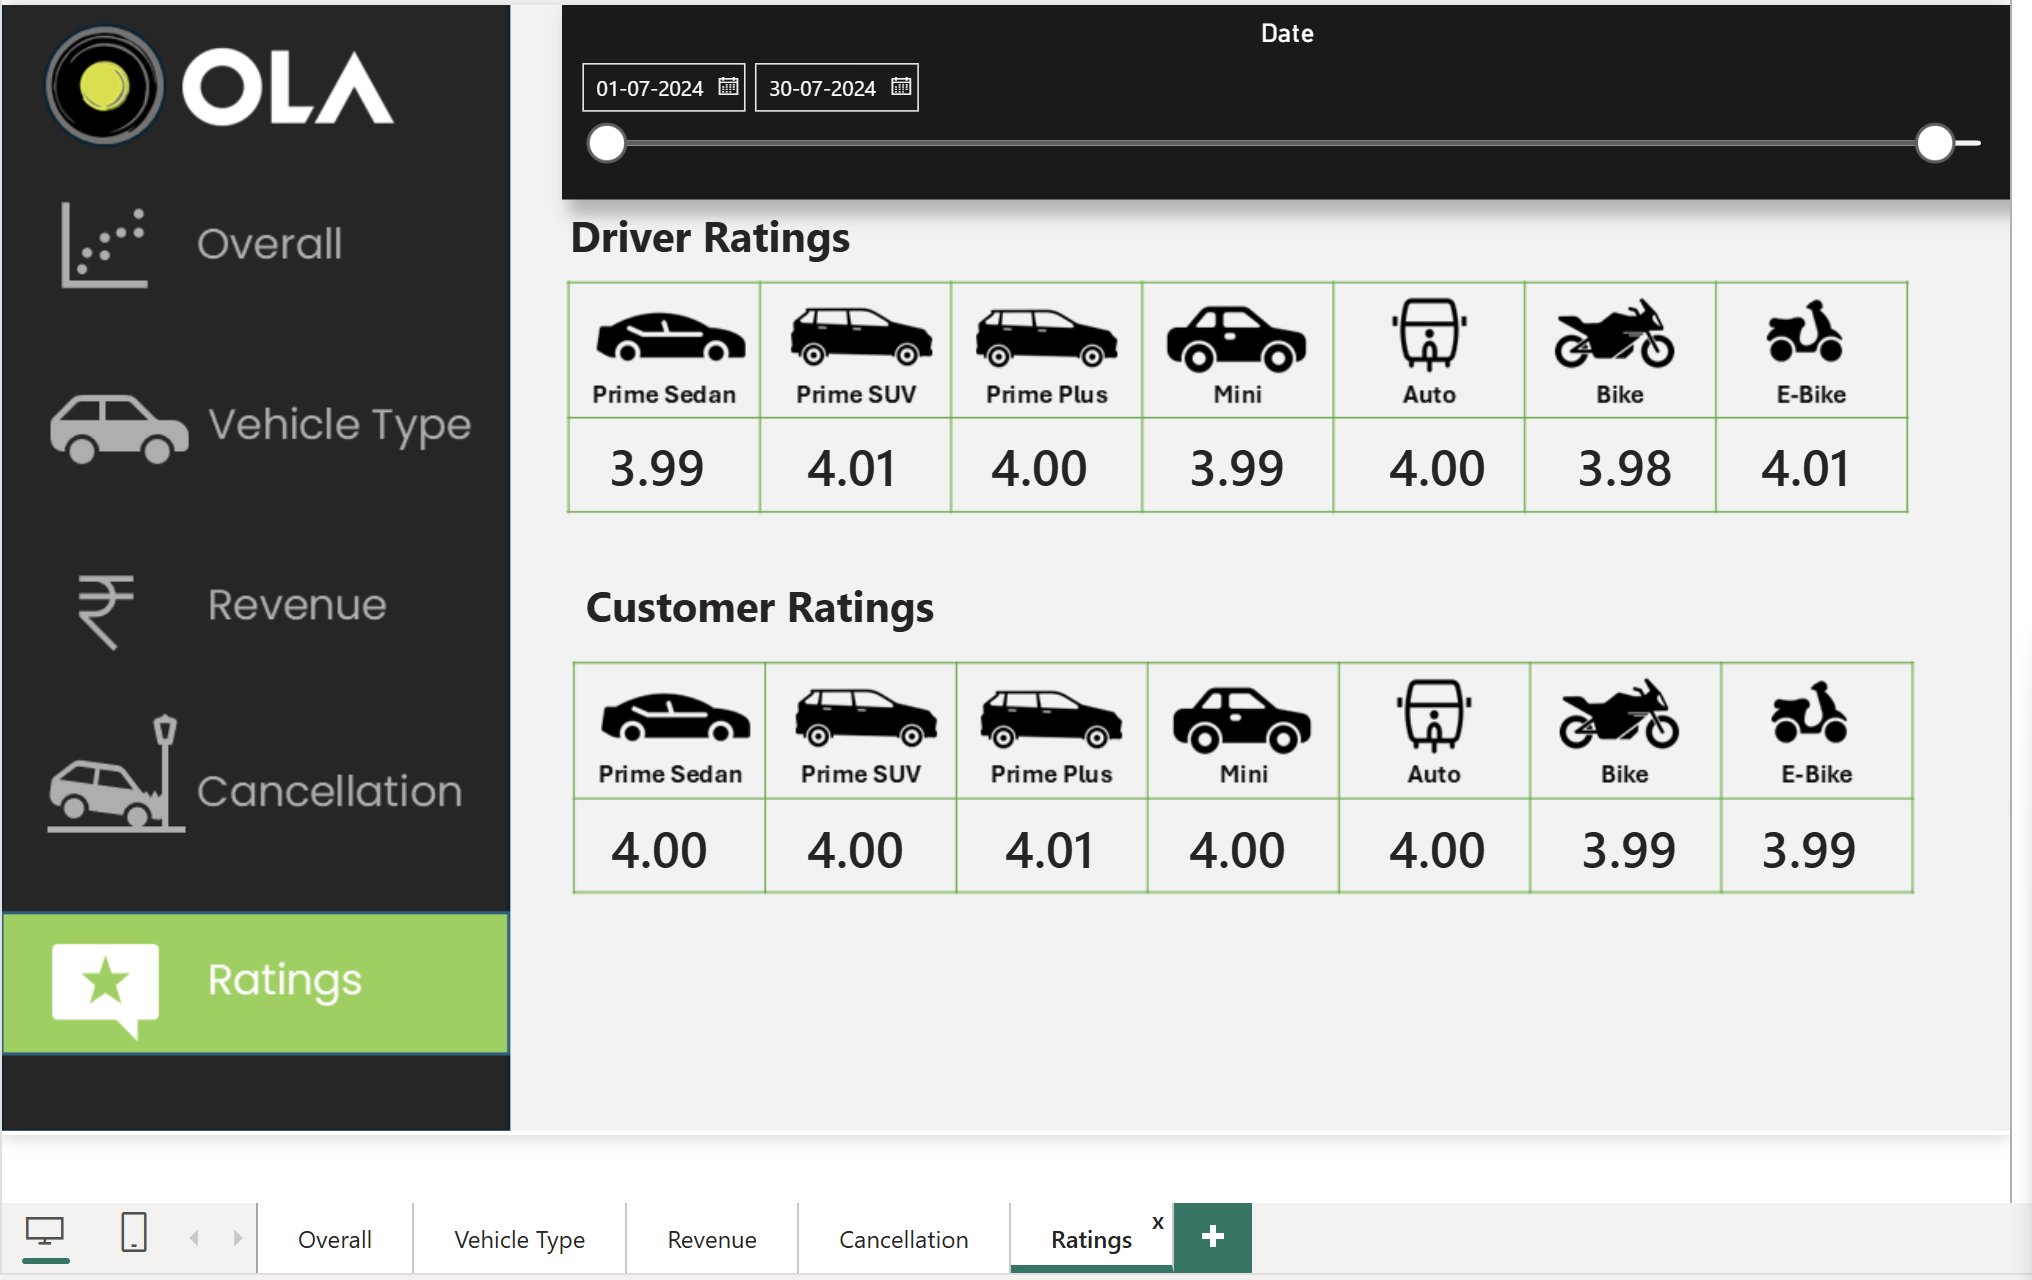

What the dashboard file says about the page in this screenshot:
{"tool":"powerbi","page":{"name":"Ratings","canvas":[1280,720],"ordinal":4},"visuals":[{"type":"actionButton","box":[0,445.9,324.2,99],"z":0},{"type":"actionButton","box":[0,340.1,324.2,92.1],"z":1000},{"type":"actionButton","box":[0,225.2,324.2,93.3],"z":2000},{"type":"actionButton","box":[0,109.2,324.2,94.4],"z":3000},{"type":"cardVisual","fields":{"Data":["Avg(Bookings_OLA_Dataset.Driver_Ratings)"]},"box":[356.7,252.2,126.9,77.6],"z":4000},{"type":"cardVisual","fields":{"Data":["Avg(Bookings_OLA_Dataset.Driver_Ratings)"]},"box":[483.6,252.2,126.9,77.6],"z":5000},{"type":"cardVisual","fields":{"Data":["Avg(Bookings_OLA_Dataset.Driver_Ratings)"]},"box":[600,252.2,126.9,77.6],"z":6000},{"type":"cardVisual","fields":{"Data":["Avg(Bookings_OLA_Dataset.Driver_Ratings)"]},"box":[726.9,252.2,126.9,77.6],"z":7000},{"type":"cardVisual","fields":{"Data":["Avg(Bookings_OLA_Dataset.Driver_Ratings)"]},"box":[853.7,252.2,120.9,77.6],"z":8000},{"type":"cardVisual","fields":{"Data":["Avg(Bookings_OLA_Dataset.Driver_Ratings)"]},"box":[974.6,252.2,126.9,77.6],"z":9000},{"type":"cardVisual","fields":{"Data":["Avg(Bookings_OLA_Dataset.Driver_Ratings)"]},"box":[1091,252.2,126.9,77.6],"z":10000},{"type":"cardVisual","fields":{"Data":["Avg(Bookings_OLA_Dataset.Customer_Rating)"]},"box":[358.2,495.5,125.4,77.6],"z":11000},{"type":"cardVisual","fields":{"Data":["Avg(Bookings_OLA_Dataset.Customer_Rating)"]},"box":[483.6,495.5,125.4,77.6],"z":12000},{"type":"cardVisual","fields":{"Data":["Avg(Bookings_OLA_Dataset.Customer_Rating)"]},"box":[609,495.5,125.4,77.6],"z":13000},{"type":"cardVisual","fields":{"Data":["Avg(Bookings_OLA_Dataset.Customer_Rating)"]},"box":[726.9,495.5,125.4,77.6],"z":14000},{"type":"cardVisual","fields":{"Data":["Avg(Bookings_OLA_Dataset.Customer_Rating)"]},"box":[853.7,495.5,125.4,77.6],"z":15000},{"type":"cardVisual","fields":{"Data":["Avg(Bookings_OLA_Dataset.Customer_Rating)"]},"box":[976.1,495.5,125.4,77.6],"z":16000},{"type":"cardVisual","fields":{"Data":["Avg(Bookings_OLA_Dataset.Customer_Rating)"]},"box":[1091,495.5,125.4,77.6],"z":17000},{"type":"textbox","box":[356.7,123.9,220.9,52.2],"z":18000},{"type":"textbox","box":[367.2,359.7,243.3,58.2],"z":19000},{"type":"slicer","title":"Date","fields":{"Values":["Bookings_OLA_Dataset.Date"]},"box":[356.7,0,925.4,123.9],"z":19001}]}

Visuals, with their boxes on the page's 1280x720 design canvas (x1, y1, x2, y2). These are canvas units, not pixel positions in the 2032x1280 screenshot, which may show the page scaled, cropped or inside an application window:
actionButton: (0, 446, 324, 545)
actionButton: (0, 340, 324, 432)
actionButton: (0, 225, 324, 318)
actionButton: (0, 109, 324, 204)
cardVisual - Avg(Bookings_OLA_Dataset.Driver_Ratings): (357, 252, 484, 330)
cardVisual - Avg(Bookings_OLA_Dataset.Driver_Ratings): (484, 252, 610, 330)
cardVisual - Avg(Bookings_OLA_Dataset.Driver_Ratings): (600, 252, 727, 330)
cardVisual - Avg(Bookings_OLA_Dataset.Driver_Ratings): (727, 252, 854, 330)
cardVisual - Avg(Bookings_OLA_Dataset.Driver_Ratings): (854, 252, 975, 330)
cardVisual - Avg(Bookings_OLA_Dataset.Driver_Ratings): (975, 252, 1102, 330)
cardVisual - Avg(Bookings_OLA_Dataset.Driver_Ratings): (1091, 252, 1218, 330)
cardVisual - Avg(Bookings_OLA_Dataset.Customer_Rating): (358, 496, 484, 573)
cardVisual - Avg(Bookings_OLA_Dataset.Customer_Rating): (484, 496, 609, 573)
cardVisual - Avg(Bookings_OLA_Dataset.Customer_Rating): (609, 496, 734, 573)
cardVisual - Avg(Bookings_OLA_Dataset.Customer_Rating): (727, 496, 852, 573)
cardVisual - Avg(Bookings_OLA_Dataset.Customer_Rating): (854, 496, 979, 573)
cardVisual - Avg(Bookings_OLA_Dataset.Customer_Rating): (976, 496, 1102, 573)
cardVisual - Avg(Bookings_OLA_Dataset.Customer_Rating): (1091, 496, 1216, 573)
textbox: (357, 124, 578, 176)
textbox: (367, 360, 610, 418)
"Date" slicer: (357, 0, 1282, 124)
